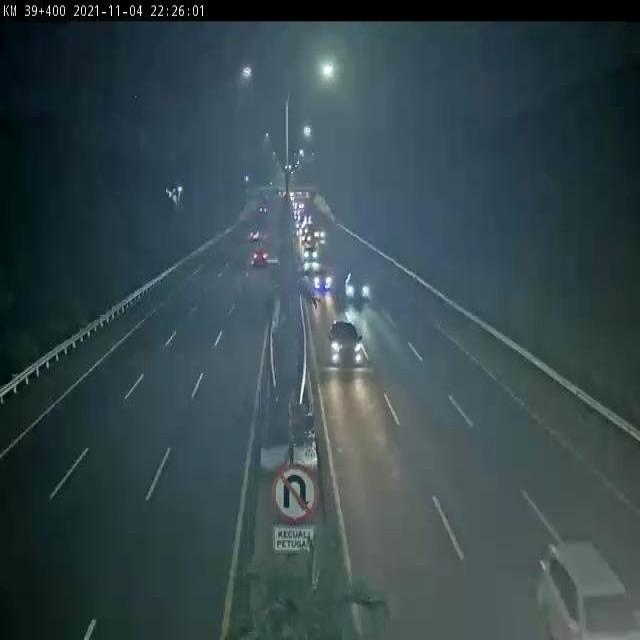car: (531, 536, 640, 640), (321, 314, 369, 386), (342, 263, 380, 308), (308, 269, 336, 311), (249, 237, 274, 271)
